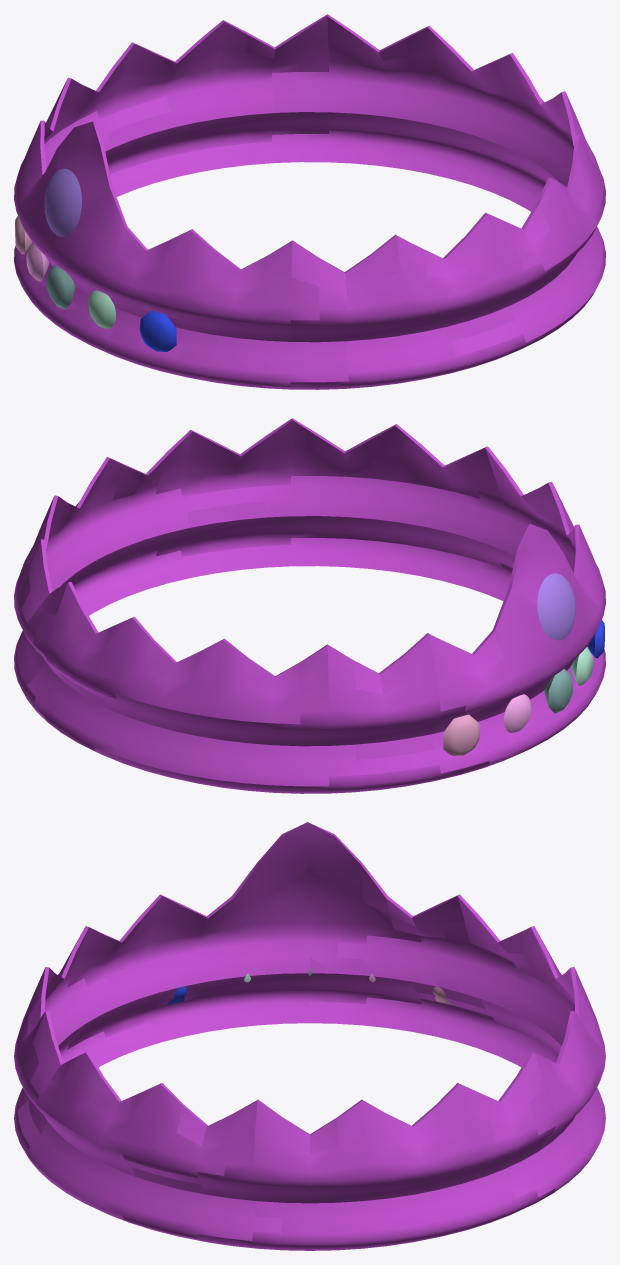
3 renders of one model, top to bottom at view 1: azimuth 30°, elevation 25°; view 2: azimuth 150°, elevation 25°; view 3: azimuth 270°, elevation 25°, orthographic.
Visible parts, largest first — view 1: split_parent_0, Diamond_0, Gem.002_0, Gem_0, Diamond.001_0, Diamond.002_0; view 2: split_parent_0, Diamond_0, Gem.001_0, Gem_0, Diamond.002_0, Diamond.001_0; view 3: split_parent_0.
Boxes of the visible parts, x1=… form: split_parent_0: x1=14, y1=14, x2=605, y2=389; Diamond_0: x1=44, y1=168, x2=81, y2=236; Gem.002_0: x1=139, y1=310, x2=176, y2=351; Gem_0: x1=47, y1=265, x2=75, y2=309; Diamond.001_0: x1=88, y1=290, x2=115, y2=328; Diamond.002_0: x1=26, y1=243, x2=49, y2=281; split_parent_0: x1=14, y1=418, x2=605, y2=793; Diamond_0: x1=537, y1=573, x2=575, y2=640; Gem.001_0: x1=443, y1=714, x2=480, y2=755; Gem_0: x1=544, y1=669, x2=572, y2=713; Diamond.002_0: x1=504, y1=694, x2=531, y2=732; Diamond.001_0: x1=570, y1=647, x2=593, y2=685; split_parent_0: x1=14, y1=822, x2=605, y2=1250.
Bounding box in the file's own units: 1 × 0.3875 × 0.9971.
